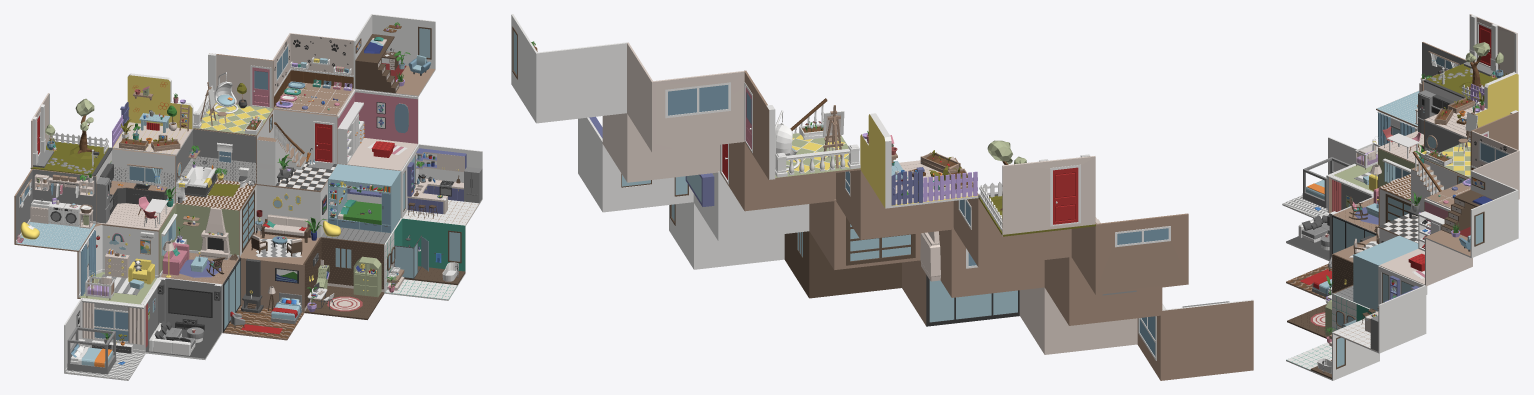
Rendered from Low_Poly_Rooms_Interiors_4.glb.
3 views of the same model, side by side, from view 1: azimuth 30°, elevation 25°; view 2: azimuth 150°, elevation 25°; view 3: azimuth 270°, elevation 25° (orthographic). The views are drawn at different scales.
Visible parts, largest first — view 1: unnamed (×31); view 2: unnamed (×13); view 3: unnamed (×29).
Boxes of the visible parts, x1=… form: unnamed (×31): x1=14, y1=14, x2=482, y2=380; unnamed (×13): x1=511, y1=14, x2=1253, y2=380; unnamed (×29): x1=1282, y1=14, x2=1519, y2=380.
Size of the model in its own units: 3851 by 1588 by 1789.
Materials: 1 (1 with a texture image).
